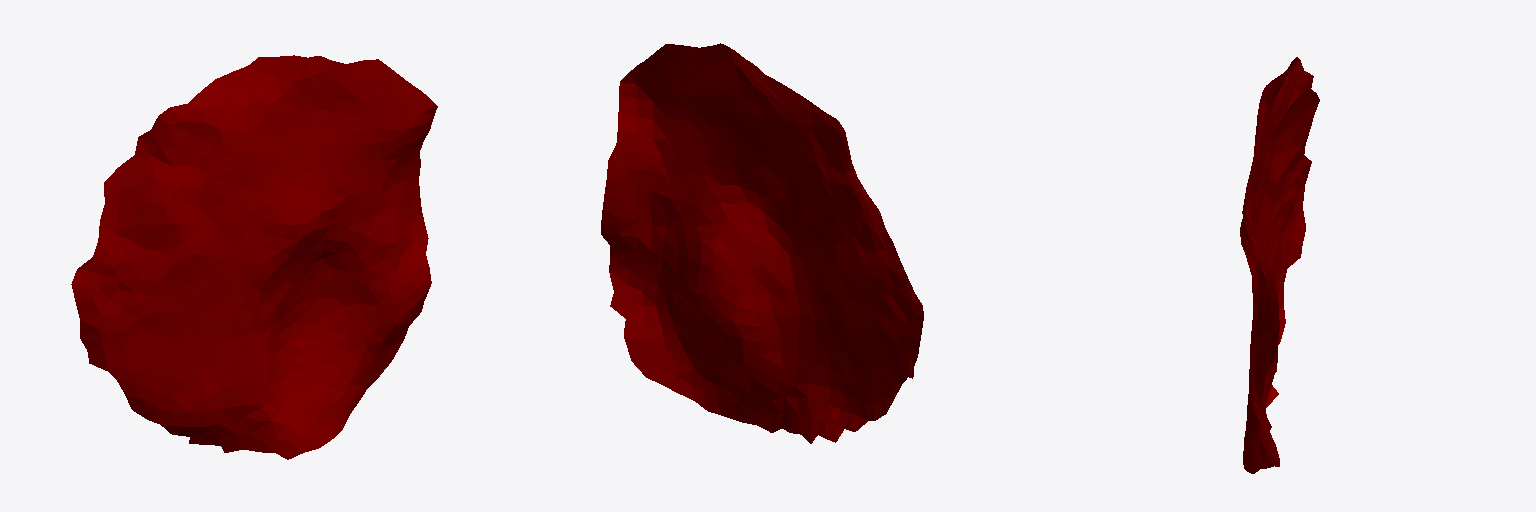
The model's file is Rgn_TAG.obj.
3 renders of one model, left to right at view 1: azimuth 30°, elevation 25°; view 2: azimuth 150°, elevation 25°; view 3: azimuth 270°, elevation 25°, orthographic.
Parts seen in each view (by area): view 1: TagSite; view 2: TagSite; view 3: TagSite.
Boxes of the visible parts, x1=… form: TagSite: x1=71, y1=55, x2=437, y2=459; TagSite: x1=601, y1=43, x2=923, y2=443; TagSite: x1=1240, y1=57, x2=1319, y2=473.
Bounding box in the file's own units: 0.4447 × 0.4854 × 0.0907.